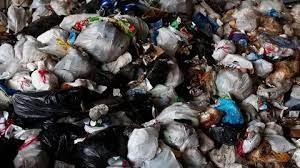Trash: (2, 0, 300, 168)
